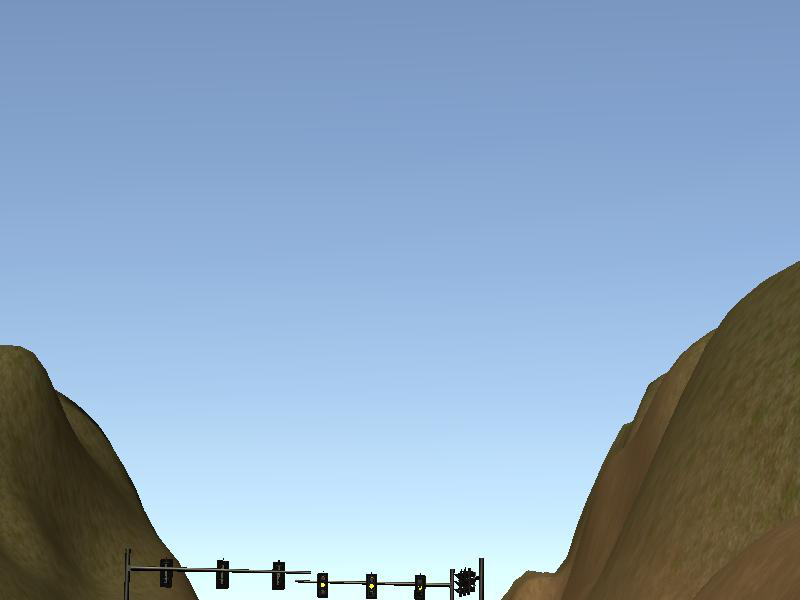yellow: (365, 572, 378, 600), (318, 571, 329, 600), (414, 575, 425, 600)
